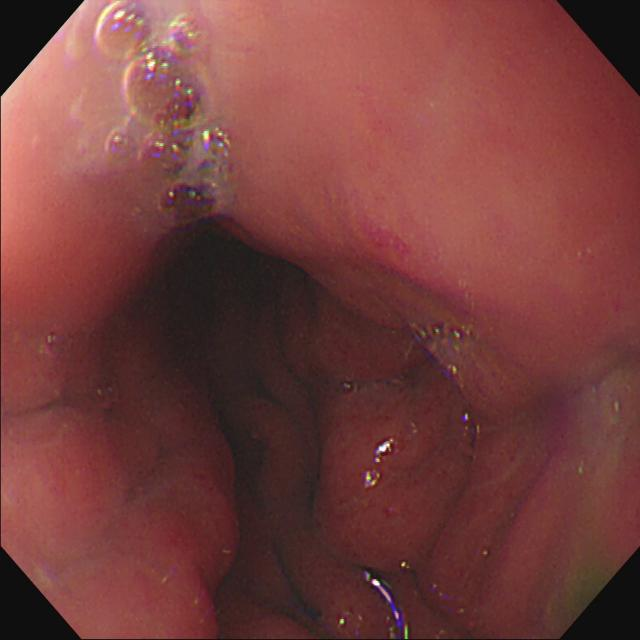A: (304, 386, 474, 565), (353, 213, 421, 265)
E: (176, 231, 296, 302)
T: (97, 2, 231, 222)
U: (364, 571, 410, 640)
